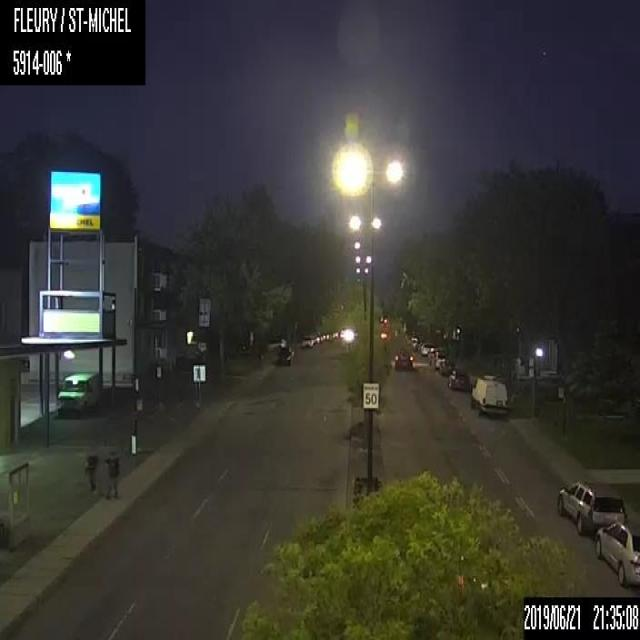pedestrian: (103, 449, 119, 500), (84, 451, 98, 492)
vehicle: (557, 480, 626, 534), (596, 522, 639, 586), (58, 372, 98, 416), (470, 373, 508, 415), (448, 367, 468, 390), (274, 344, 294, 365), (392, 350, 412, 370), (431, 351, 445, 368), (299, 333, 313, 348), (420, 341, 433, 356)
